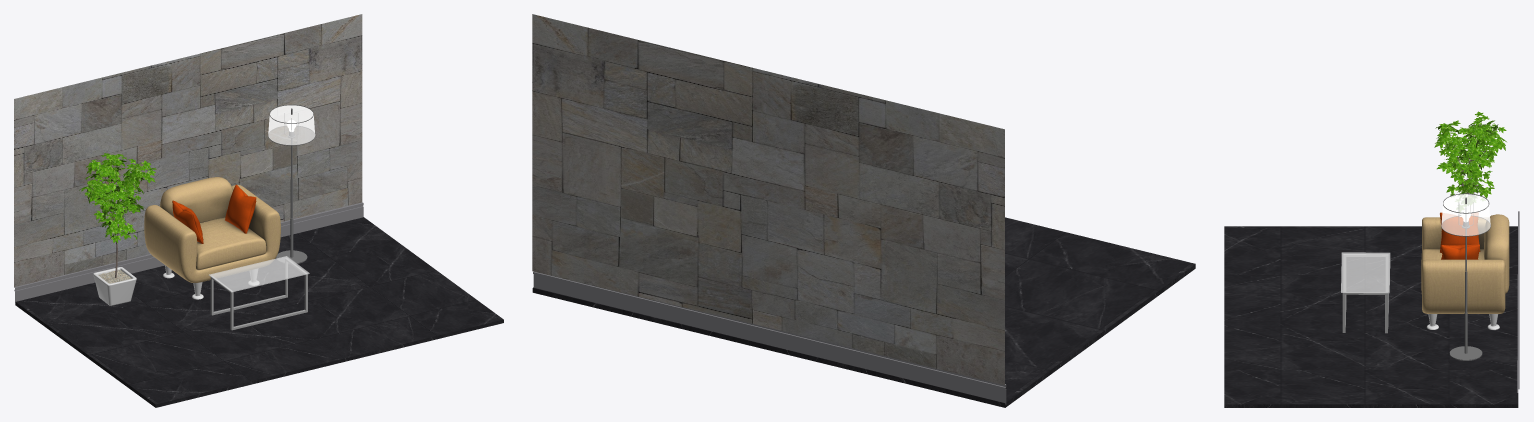
File: Light_Brown_Cloth_InScene_1K.glb
3 renders of one model, left to right at view 1: azimuth 30°, elevation 25°; view 2: azimuth 150°, elevation 25°; view 3: azimuth 270°, elevation 25°, orthographic. The views are drawn at different scales.
Parts seen in each view (by area): view 1: wall, WoodenFloor, Sofa_1_Back_L, plant_obj_73, wallplank, Glass, Obj_09, table leg small, Pillow_1, Obj_01, Obj_06, Pillow_1.001; view 2: wall, WoodenFloor, wallplank; view 3: WoodenFloor, Sofa_1_Back_L, plant_obj_73, Glass, Obj_09, Pillow_1.001, table leg small, Obj_01, Obj_06, Pillow_1, wallplank.
Boxes of the visible parts, box(x1,y1,x2,y2) form: wall: box(14, 14, 362, 287); WoodenFloor: box(15, 217, 503, 407); Sofa_1_Back_L: box(144, 177, 280, 282); plant_obj_73: box(79, 153, 156, 305); wallplank: box(14, 202, 363, 302); Glass: box(208, 256, 309, 292); Obj_09: box(268, 105, 315, 144); table leg small: box(210, 258, 307, 330); Pillow_1: box(225, 184, 256, 233); Obj_01: box(276, 108, 307, 263); Obj_06: box(270, 105, 313, 122); Pillow_1.001: box(172, 200, 203, 243); wall: box(532, 14, 1004, 385); WoodenFloor: box(532, 217, 1195, 407); wallplank: box(533, 271, 1006, 404); WoodenFloor: box(1224, 226, 1518, 407); Sofa_1_Back_L: box(1421, 214, 1509, 313); plant_obj_73: box(1434, 111, 1506, 198); Glass: box(1341, 252, 1390, 293); Obj_09: box(1441, 194, 1490, 235); Pillow_1.001: box(1440, 212, 1480, 252); table leg small: box(1342, 254, 1388, 333); Obj_01: box(1449, 197, 1482, 360); Obj_06: box(1443, 194, 1488, 212); Pillow_1: box(1441, 244, 1479, 259); wallplank: box(1517, 211, 1519, 392).
Size of the model in its own units: 4.01 by 2.26 by 2.81.
Materials: 16 (7 with a texture image).
